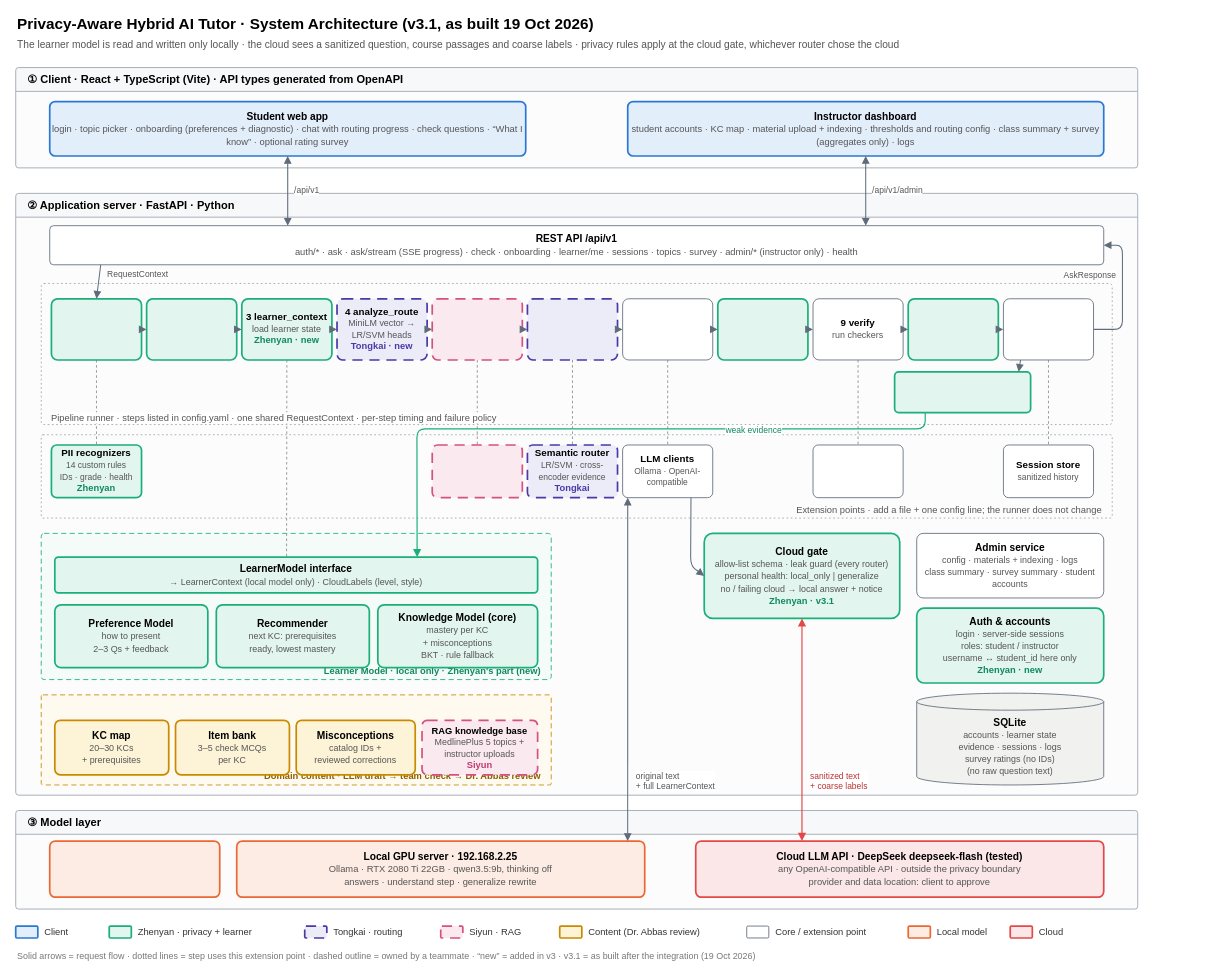
The diagram is 1221 pixels wide and 978 high, and some of its shapes have lost their labels. Each missing label, with the centre of its shape:
"1 privacy_filter detect + anonymize Zhenyan" goes at [96,329].
"10 attach_check one check MCQ Zhenyan · new" goes at [953,329].
"11 record sanitized logs" goes at [1048,329].
"12 update_learner after the response (async)" goes at [962,392].
"2 understand local LLM: KC, type, signals Zhenyan · new" goes at [191,329].
"5 retrieve hybrid BM25 + TF-IDF Siyun" goes at [477,329].
"6 route capability + evidence check Tongkai" goes at [572,329].
"7 generate prompt · cloud gate · local fallback" goes at [667,329].
"8 restore PII back + misconception note Zhenyan" goes at [762,329].
"Checkers grounding (+ numbers) · safety · PII + profile leak" goes at [857,471].
"Local CPU models spaCy lg · MiniLM · 2 cross-encoders (app server, offline)" goes at [134,869].
"RAG adapter hybrid retriever + relevance gate Siyun" goes at [477,471].
